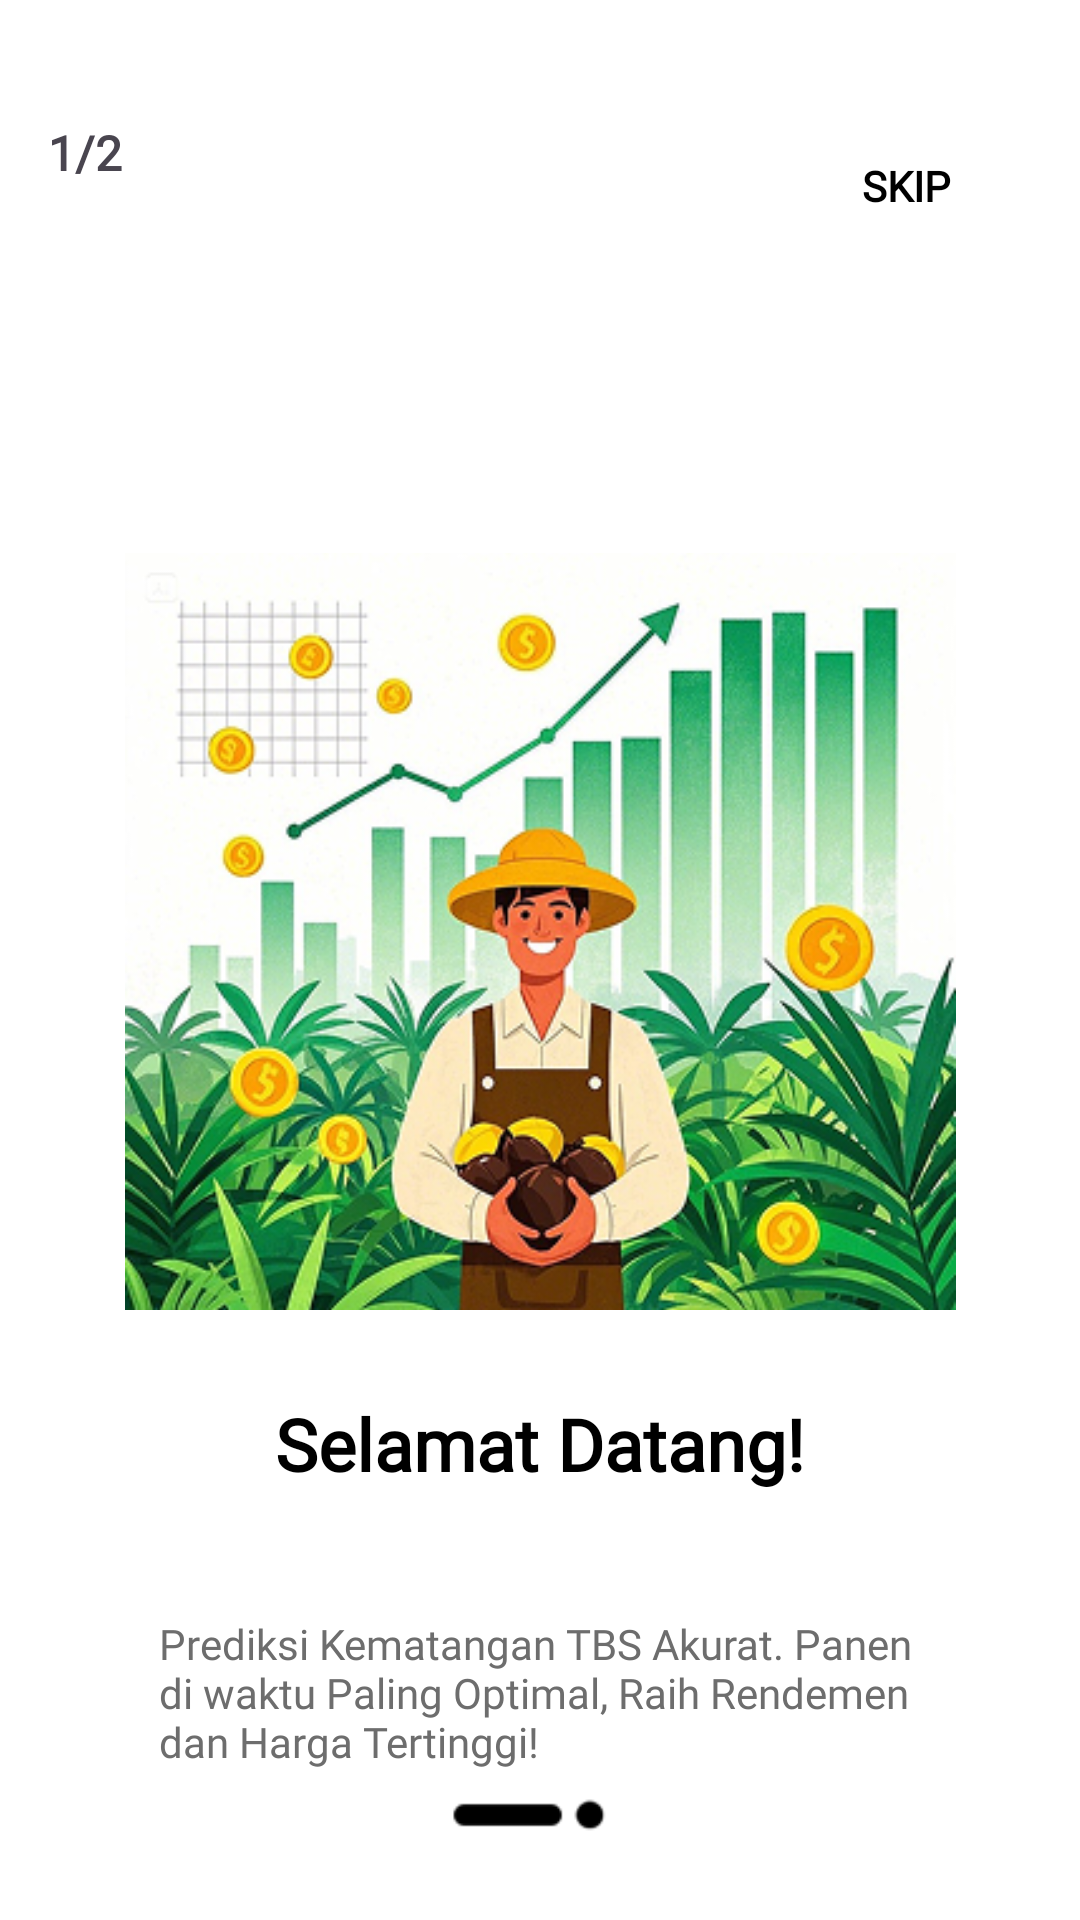

Screen size 1080 × 1920. Icon name, then its box in pixels as [x1=x1, y1=y1, x2=x2, y2=y2]:
bar dot: [x1=453, y1=1799, x2=605, y2=1830]
